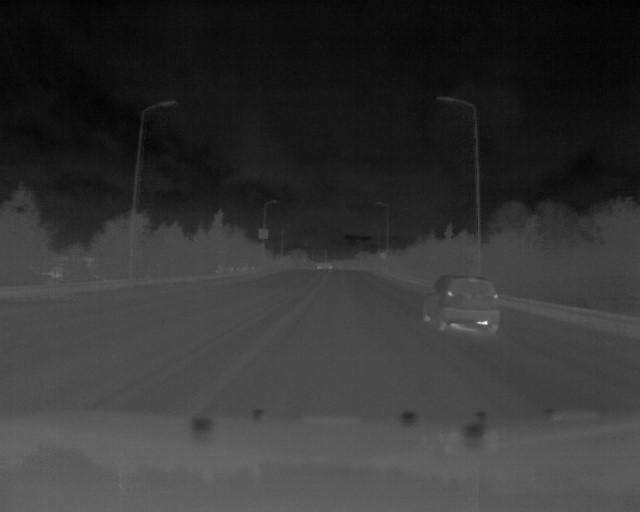car: (418, 275, 502, 335)
